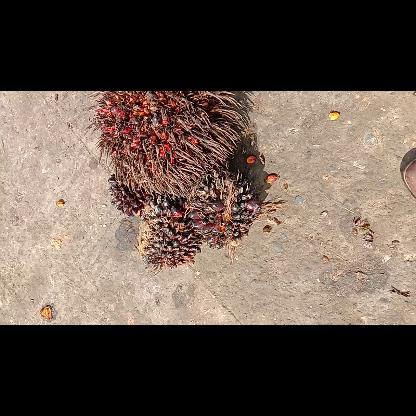TBS abnormal: (185, 170, 263, 250), (133, 192, 203, 272), (106, 171, 154, 216)
Terlalu masak: (83, 90, 255, 198)
